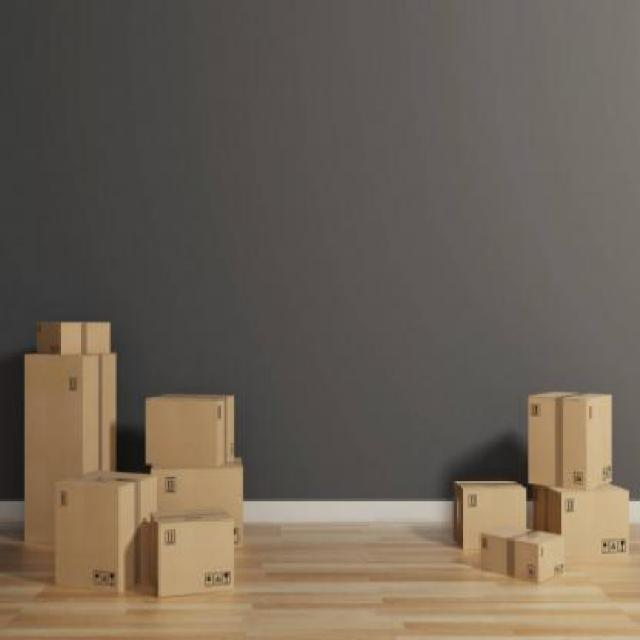box: (21, 356, 122, 544), (52, 466, 156, 594), (530, 388, 614, 496), (530, 480, 636, 564), (158, 454, 246, 550), (144, 386, 231, 467), (158, 512, 239, 598), (454, 478, 528, 550), (481, 526, 568, 582), (36, 314, 114, 359)
